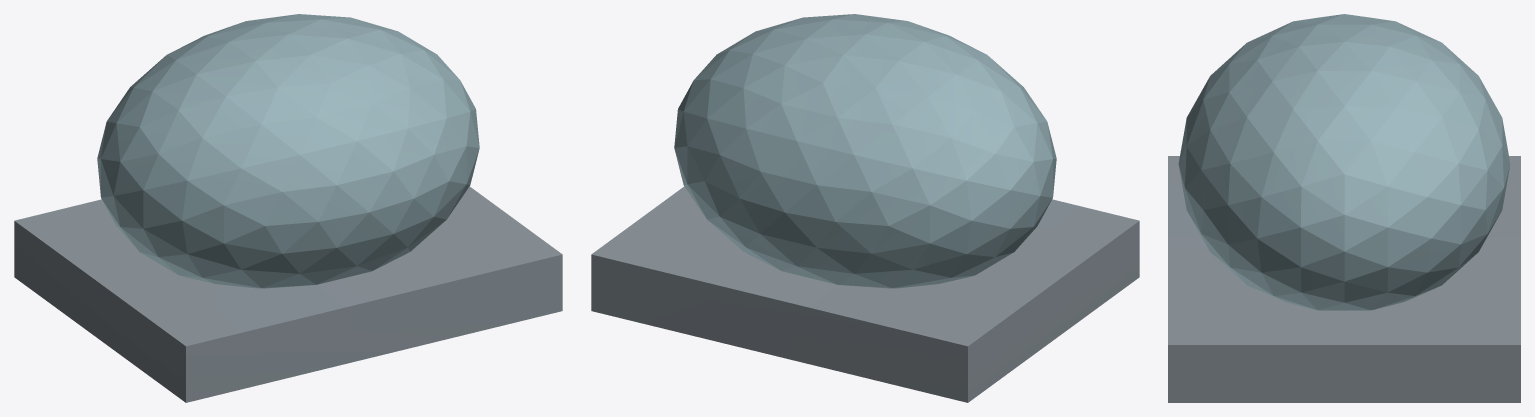
File: greenhouse-04.glb
3 views of the same model, side by side, from view 1: azimuth 30°, elevation 25°; view 2: azimuth 150°, elevation 25°; view 3: azimuth 270°, elevation 25° (orthographic). The views are drawn at different scales.
Visible parts, largest first — view 1: world; view 2: world; view 3: world.
Part boxes in pixels (x1,y1,x2,y2): world: (14,14,562,402); world: (591,14,1139,402); world: (1168,14,1520,402).
Size of the model in its own units: 1.39 by 0.9179 by 1.1.
